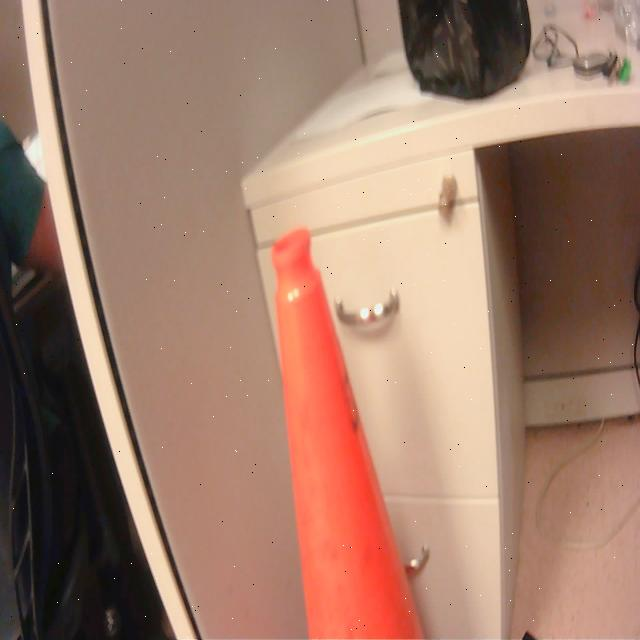traffic cone: (267, 222, 439, 640)
